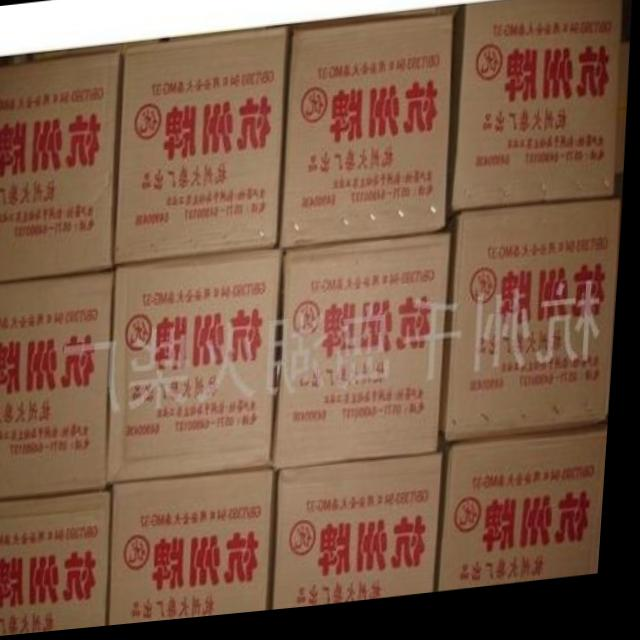box: (446, 211, 623, 451), (279, 240, 455, 472), (118, 31, 290, 268), (115, 252, 287, 487), (451, 0, 624, 227), (284, 24, 454, 254), (0, 52, 124, 282), (446, 441, 614, 601), (0, 275, 118, 502), (282, 460, 451, 616), (117, 475, 282, 629), (0, 492, 119, 637)
